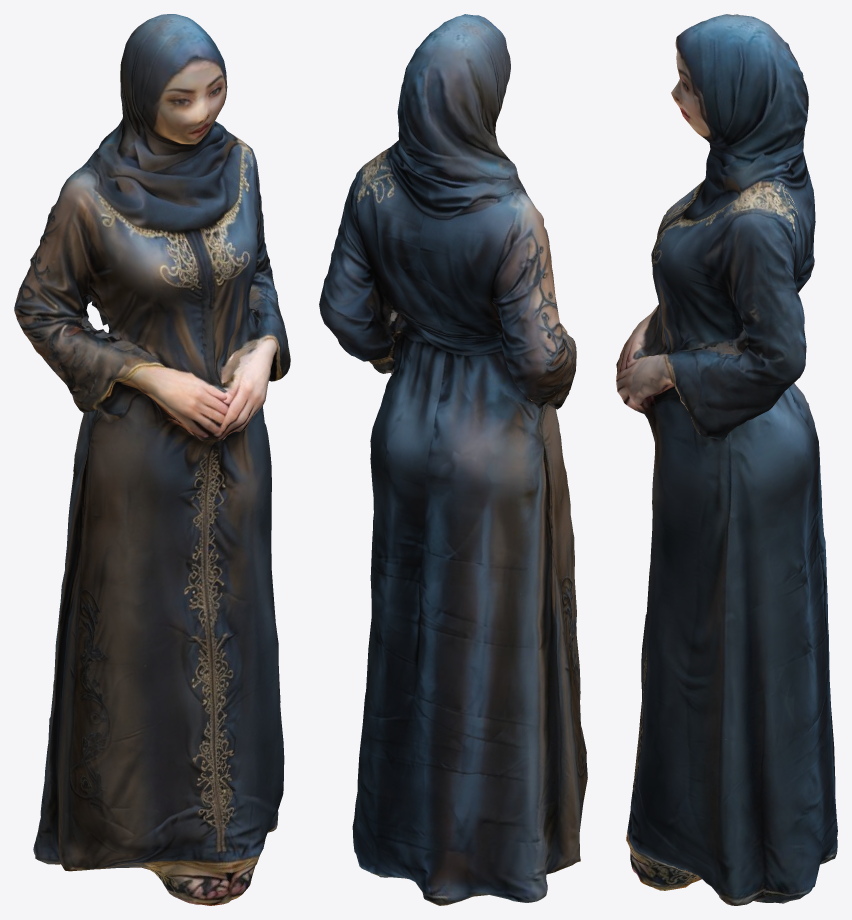
Rendered from lady.glb.
3 views of the same model, side by side, from view 1: azimuth 30°, elevation 25°; view 2: azimuth 150°, elevation 25°; view 3: azimuth 270°, elevation 25° (orthographic).
Visible parts, largest first — view 1: Mesh_0_Material_0_0; view 2: Mesh_0_Material_0_0; view 3: Mesh_0_Material_0_0.
Boxes of the visible parts, x1,y1,x2,y2 form: Mesh_0_Material_0_0: (14,14,290,905); Mesh_0_Material_0_0: (319,14,587,905); Mesh_0_Material_0_0: (616,14,837,905).
Bounding box in the file's own units: 0.3552 × 1.2 × 0.2782.
1 material, 1 textured.
